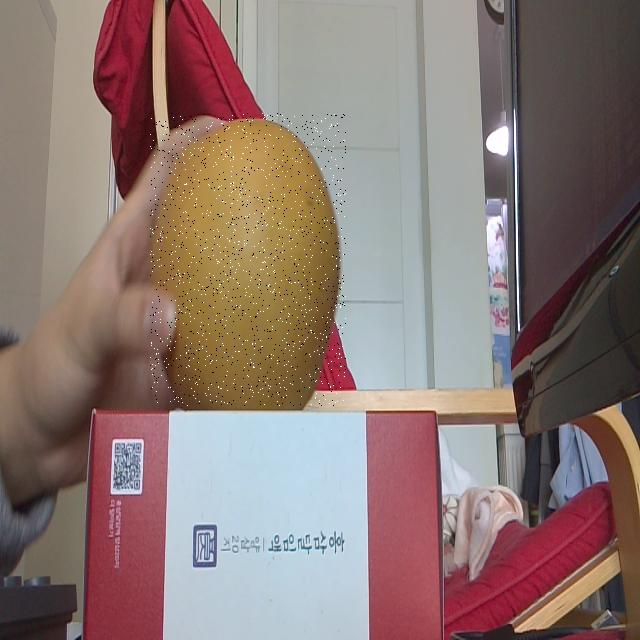pear: (150, 113, 346, 406)
